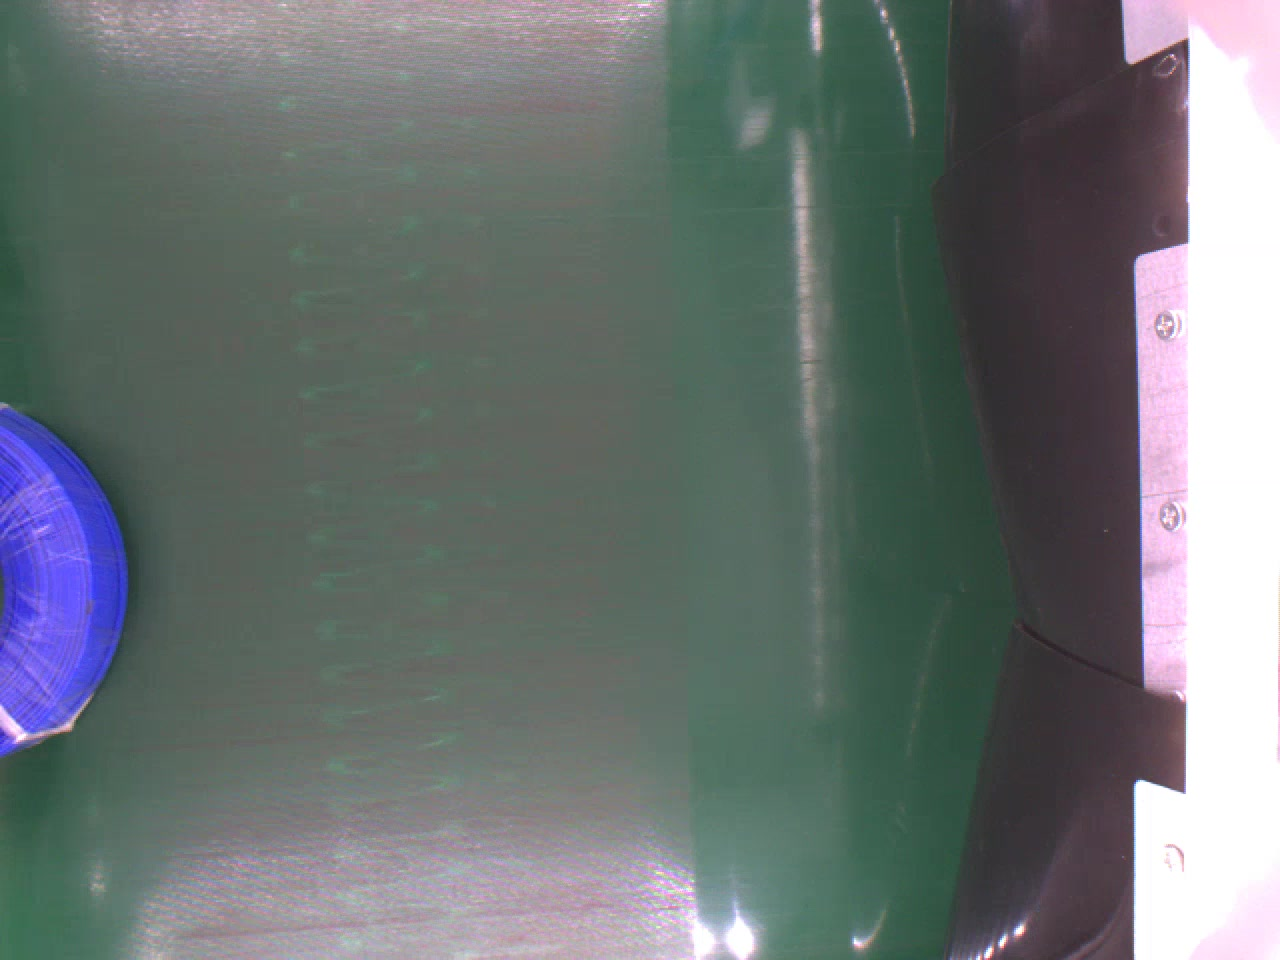blue: (0, 396, 129, 756)
